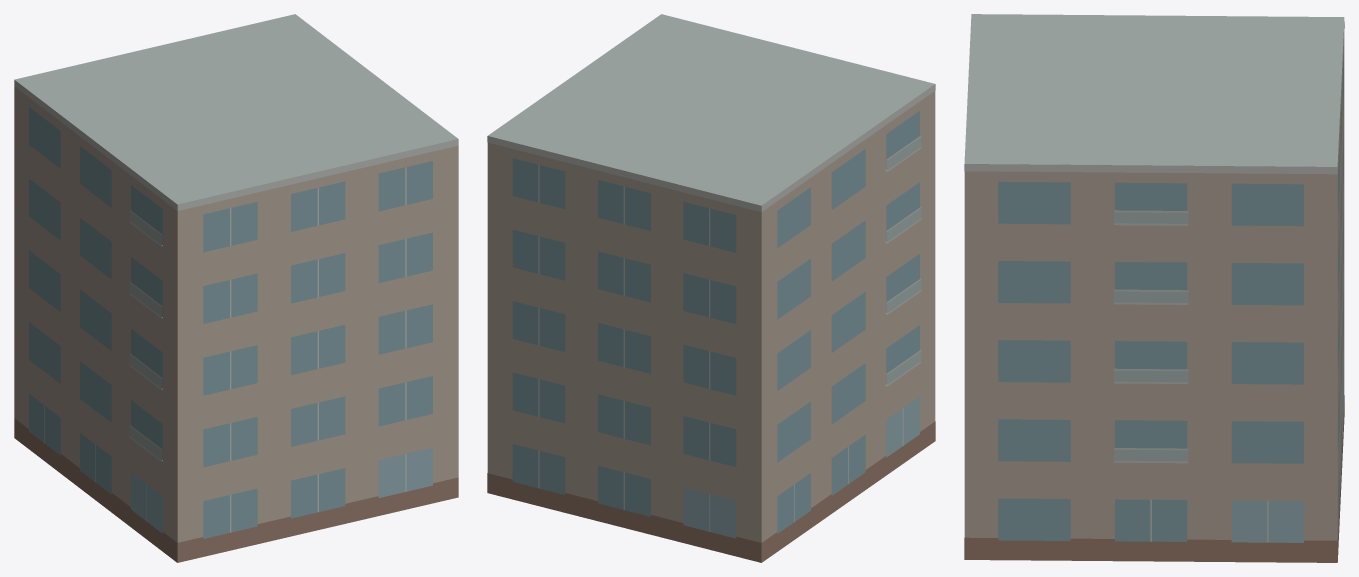
The model's file is survey-upis-32774118.glb.
3 views of the same model, side by side, from view 1: azimuth 30°, elevation 25°; view 2: azimuth 150°, elevation 25°; view 3: azimuth 270°, elevation 25° (orthographic). The views are drawn at different scales.
Parts seen in each view (by area): view 1: survey-upis-32774118.tmp; view 2: survey-upis-32774118.tmp; view 3: survey-upis-32774118.tmp.
Boxes of the visible parts, box(x1,y1,x2,y2) form: survey-upis-32774118.tmp: box(14, 14, 458, 562); survey-upis-32774118.tmp: box(487, 14, 935, 562); survey-upis-32774118.tmp: box(964, 14, 1344, 562).
Size of the model in its own units: 11.03 by 13.28 by 11.56.
